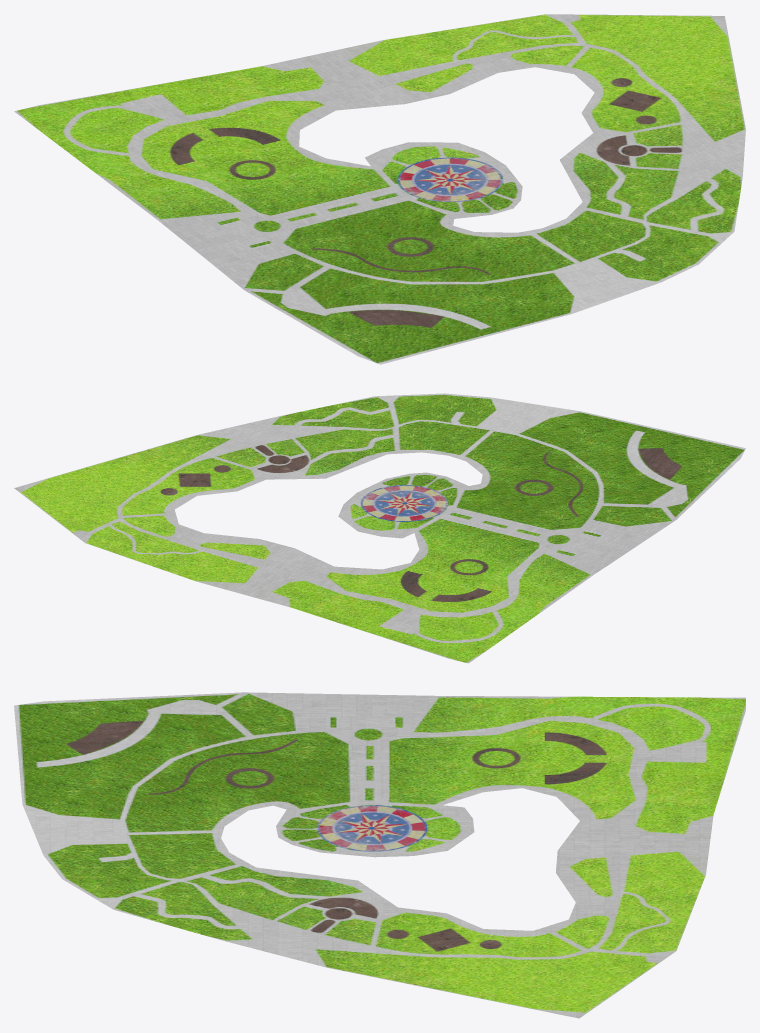
The picture shows the model from 3 angles, top to bottom: view 1: azimuth 30°, elevation 25°; view 2: azimuth 150°, elevation 25°; view 3: azimuth 270°, elevation 25°; orthographic projection. The views are drawn at different scales.
Visible parts, largest first — view 1: HN1138___Nen; view 2: HN1138___Nen; view 3: HN1138___Nen.
Part boxes in pixels (bbox=[...]): HN1138___Nen: bbox=[14, 14, 745, 364]; HN1138___Nen: bbox=[14, 393, 745, 663]; HN1138___Nen: bbox=[14, 692, 745, 1018].
Bounding box in the file's own units: 363 × 7.64e-14 × 344.
1 material, 1 textured.
